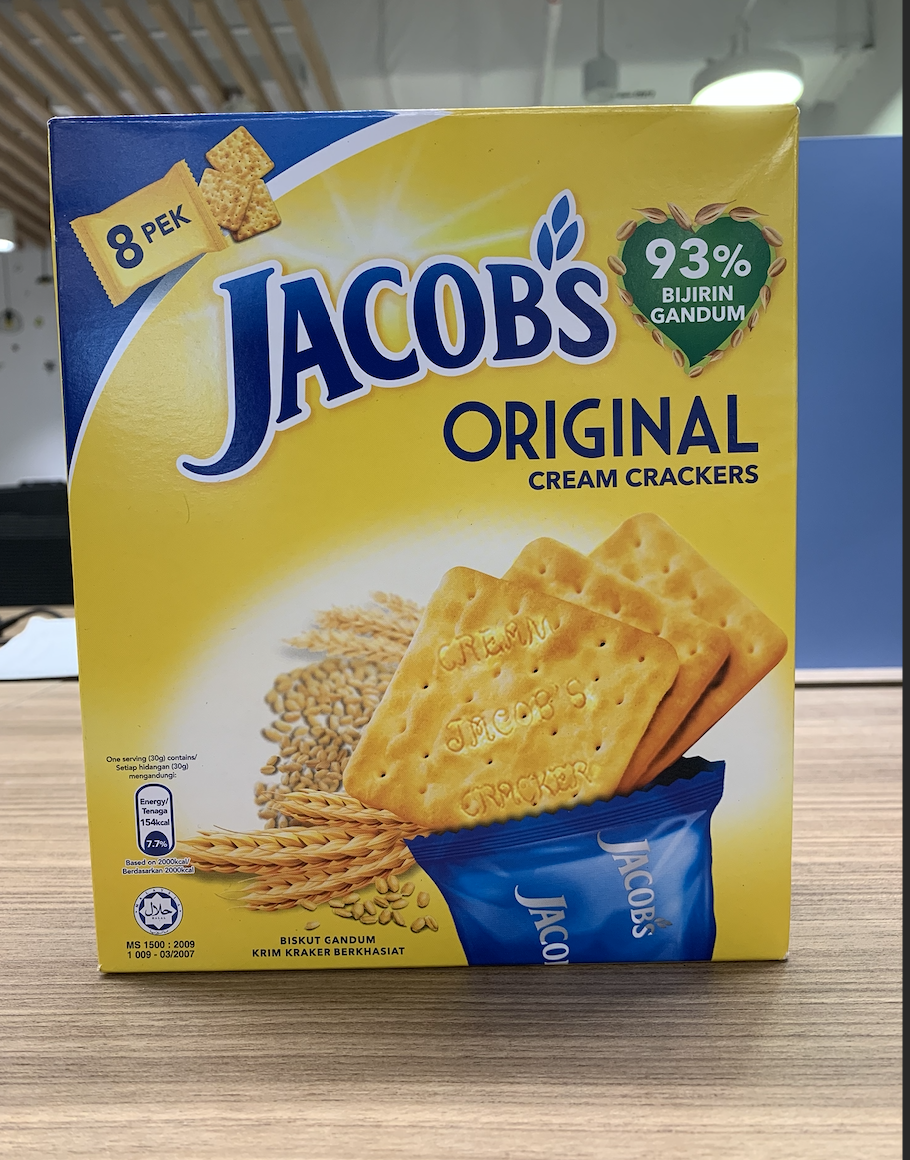crackers_200g-299g: (94, 139, 792, 968)
